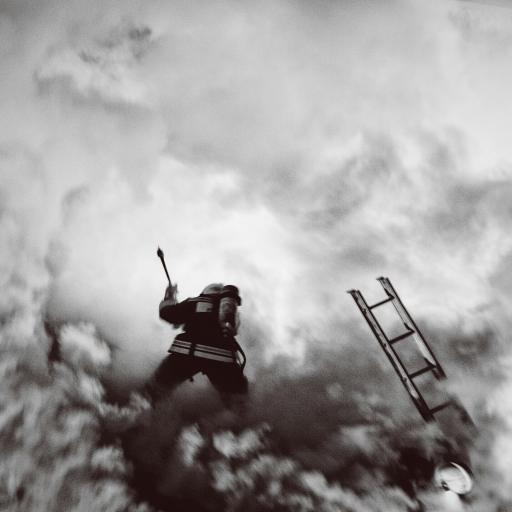smoke: (0, 0, 511, 290), (0, 305, 167, 512), (208, 405, 512, 512)
